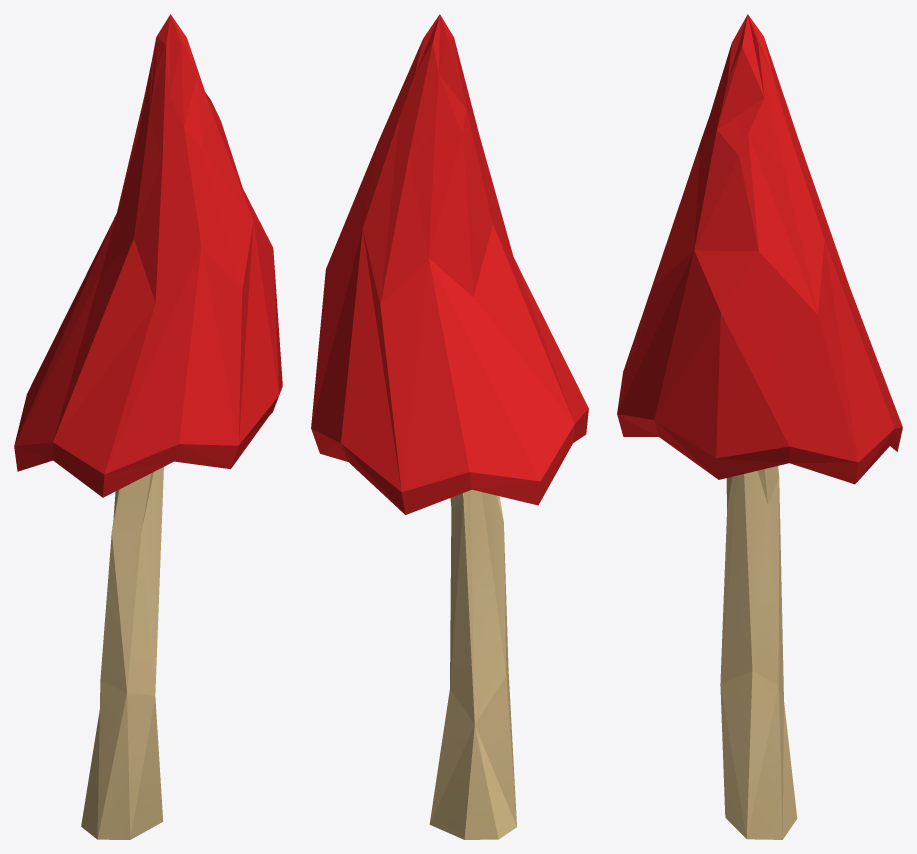
File: mushroom_red_cone.glb
3 views of the same model, side by side, from view 1: azimuth 30°, elevation 25°; view 2: azimuth 150°, elevation 25°; view 3: azimuth 270°, elevation 25° (orthographic). The views are drawn at different scales.
Parts seen in each view (by area): view 1: Mushroom 2_1_A; view 2: Mushroom 2_1_A; view 3: Mushroom 2_1_A.
Part boxes in pixels (bbox=[...]): Mushroom 2_1_A: bbox=[14, 14, 282, 839]; Mushroom 2_1_A: bbox=[311, 14, 588, 839]; Mushroom 2_1_A: bbox=[617, 14, 902, 839].
Size of the model in its own units: 0.0726 by 0.24 by 0.075.
Materials: 1 (1 with a texture image).
